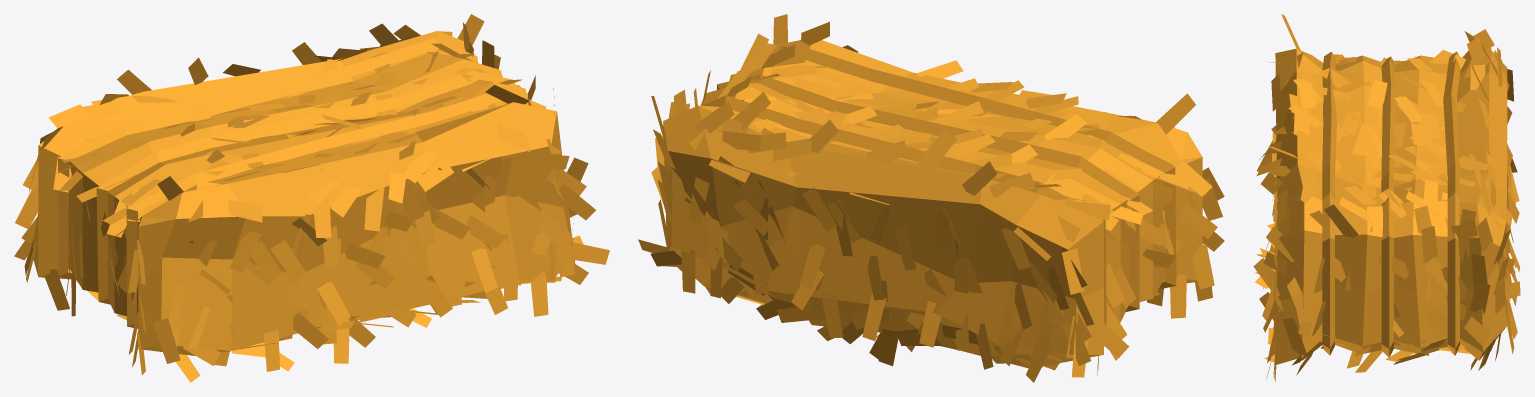
File: SM_Haybale_Square_Big.fbx
3 renders of one model, left to right at view 1: azimuth 30°, elevation 25°; view 2: azimuth 150°, elevation 25°; view 3: azimuth 270°, elevation 25°, orthographic. The views are drawn at different scales.
Parts seen in each view (by area): view 1: haybale-square-big; view 2: haybale-square-big; view 3: haybale-square-big.
Boxes of the visible parts, x1,y1,x2,y2 form: haybale-square-big: (14, 14, 609, 382); haybale-square-big: (638, 14, 1224, 382); haybale-square-big: (1253, 14, 1520, 381).
Size of the model in its own units: 2.61 by 1.27 by 1.38.
